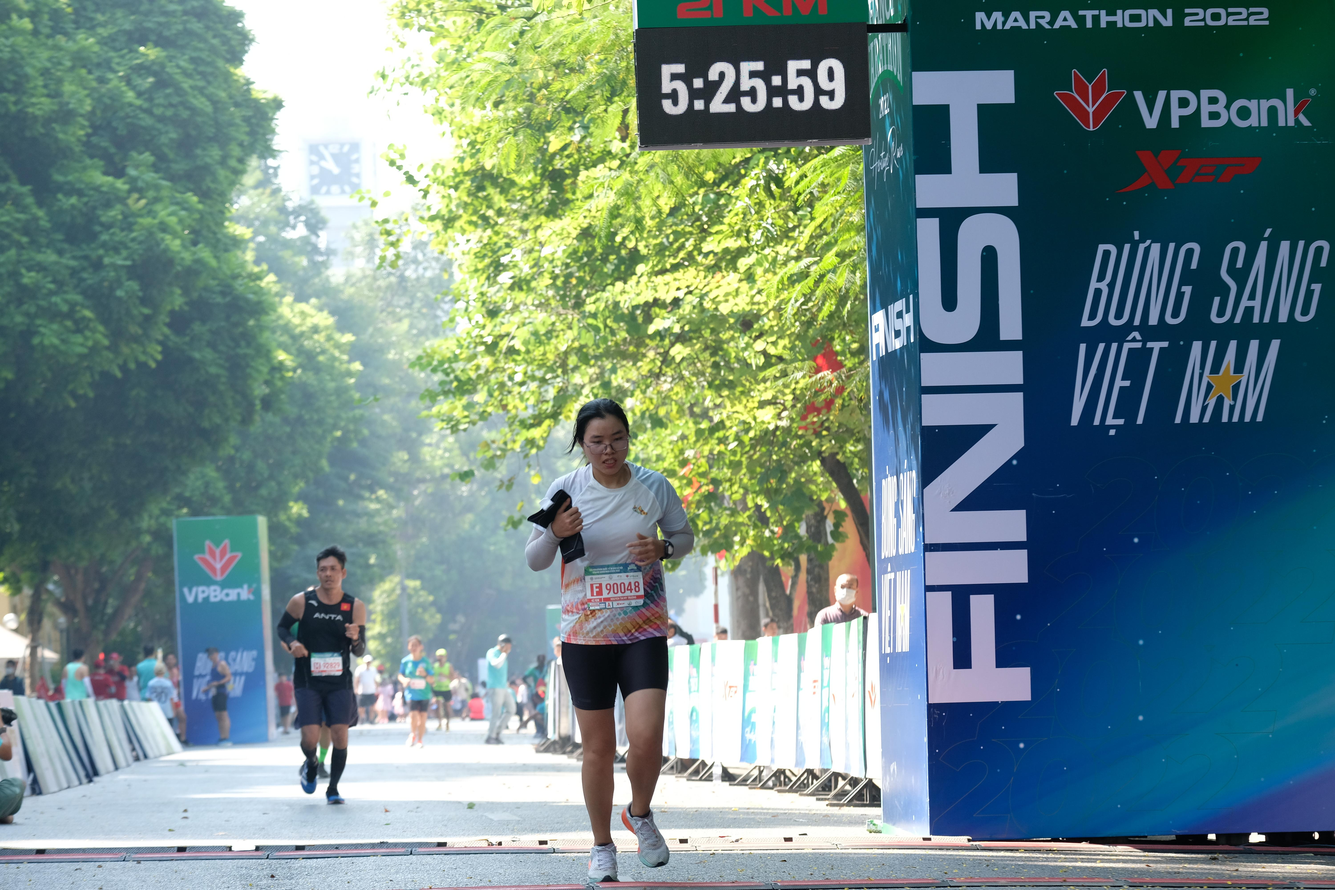bib: (584, 566, 645, 608), (310, 653, 342, 677), (410, 678, 425, 689)
